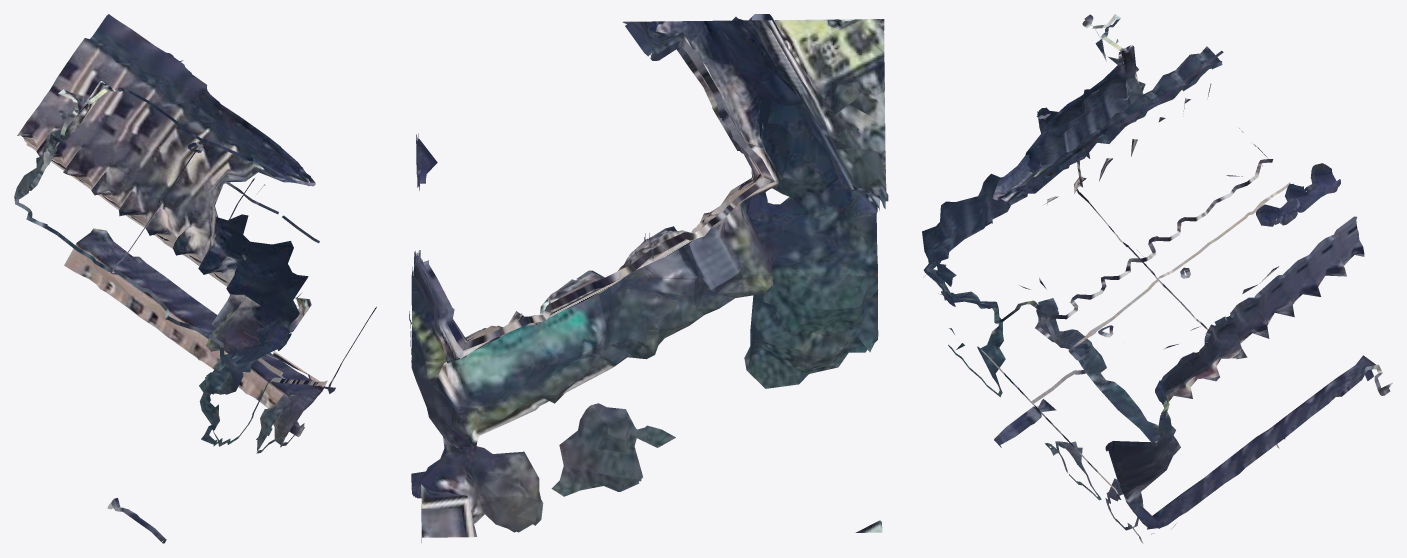
3 views of the same model, side by side, from view 1: azimuth 30°, elevation 25°; view 2: azimuth 150°, elevation 25°; view 3: azimuth 270°, elevation 25° (orthographic). The views are drawn at different scales.
Size of the model in its own units: 42.72 by 50.31 by 51.06.
1 material, 1 textured.
